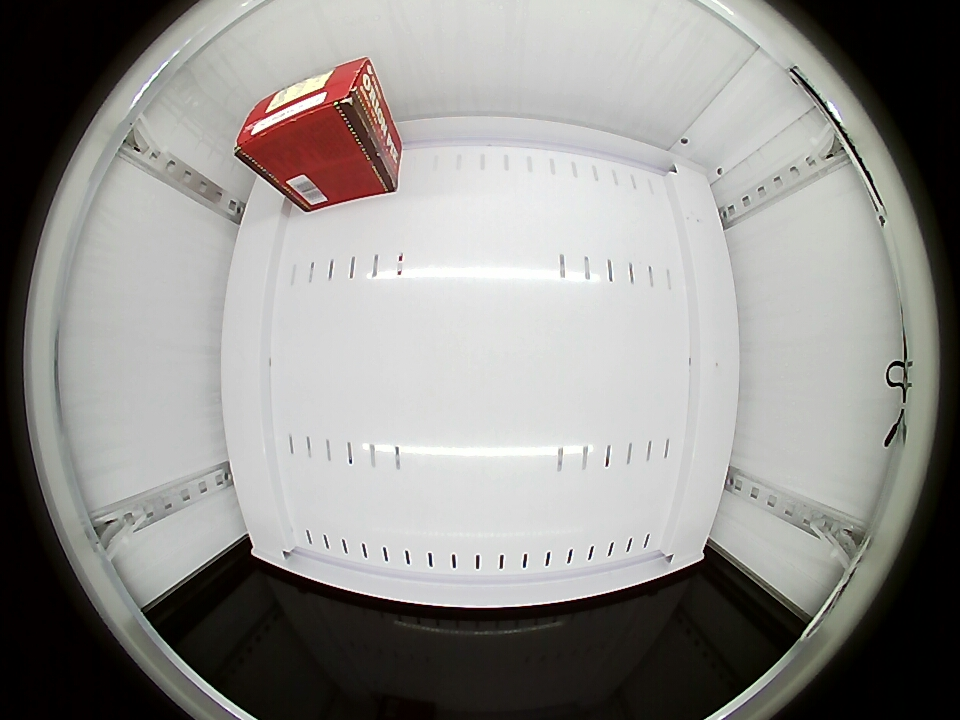haoliyou: (235, 57, 381, 182)
